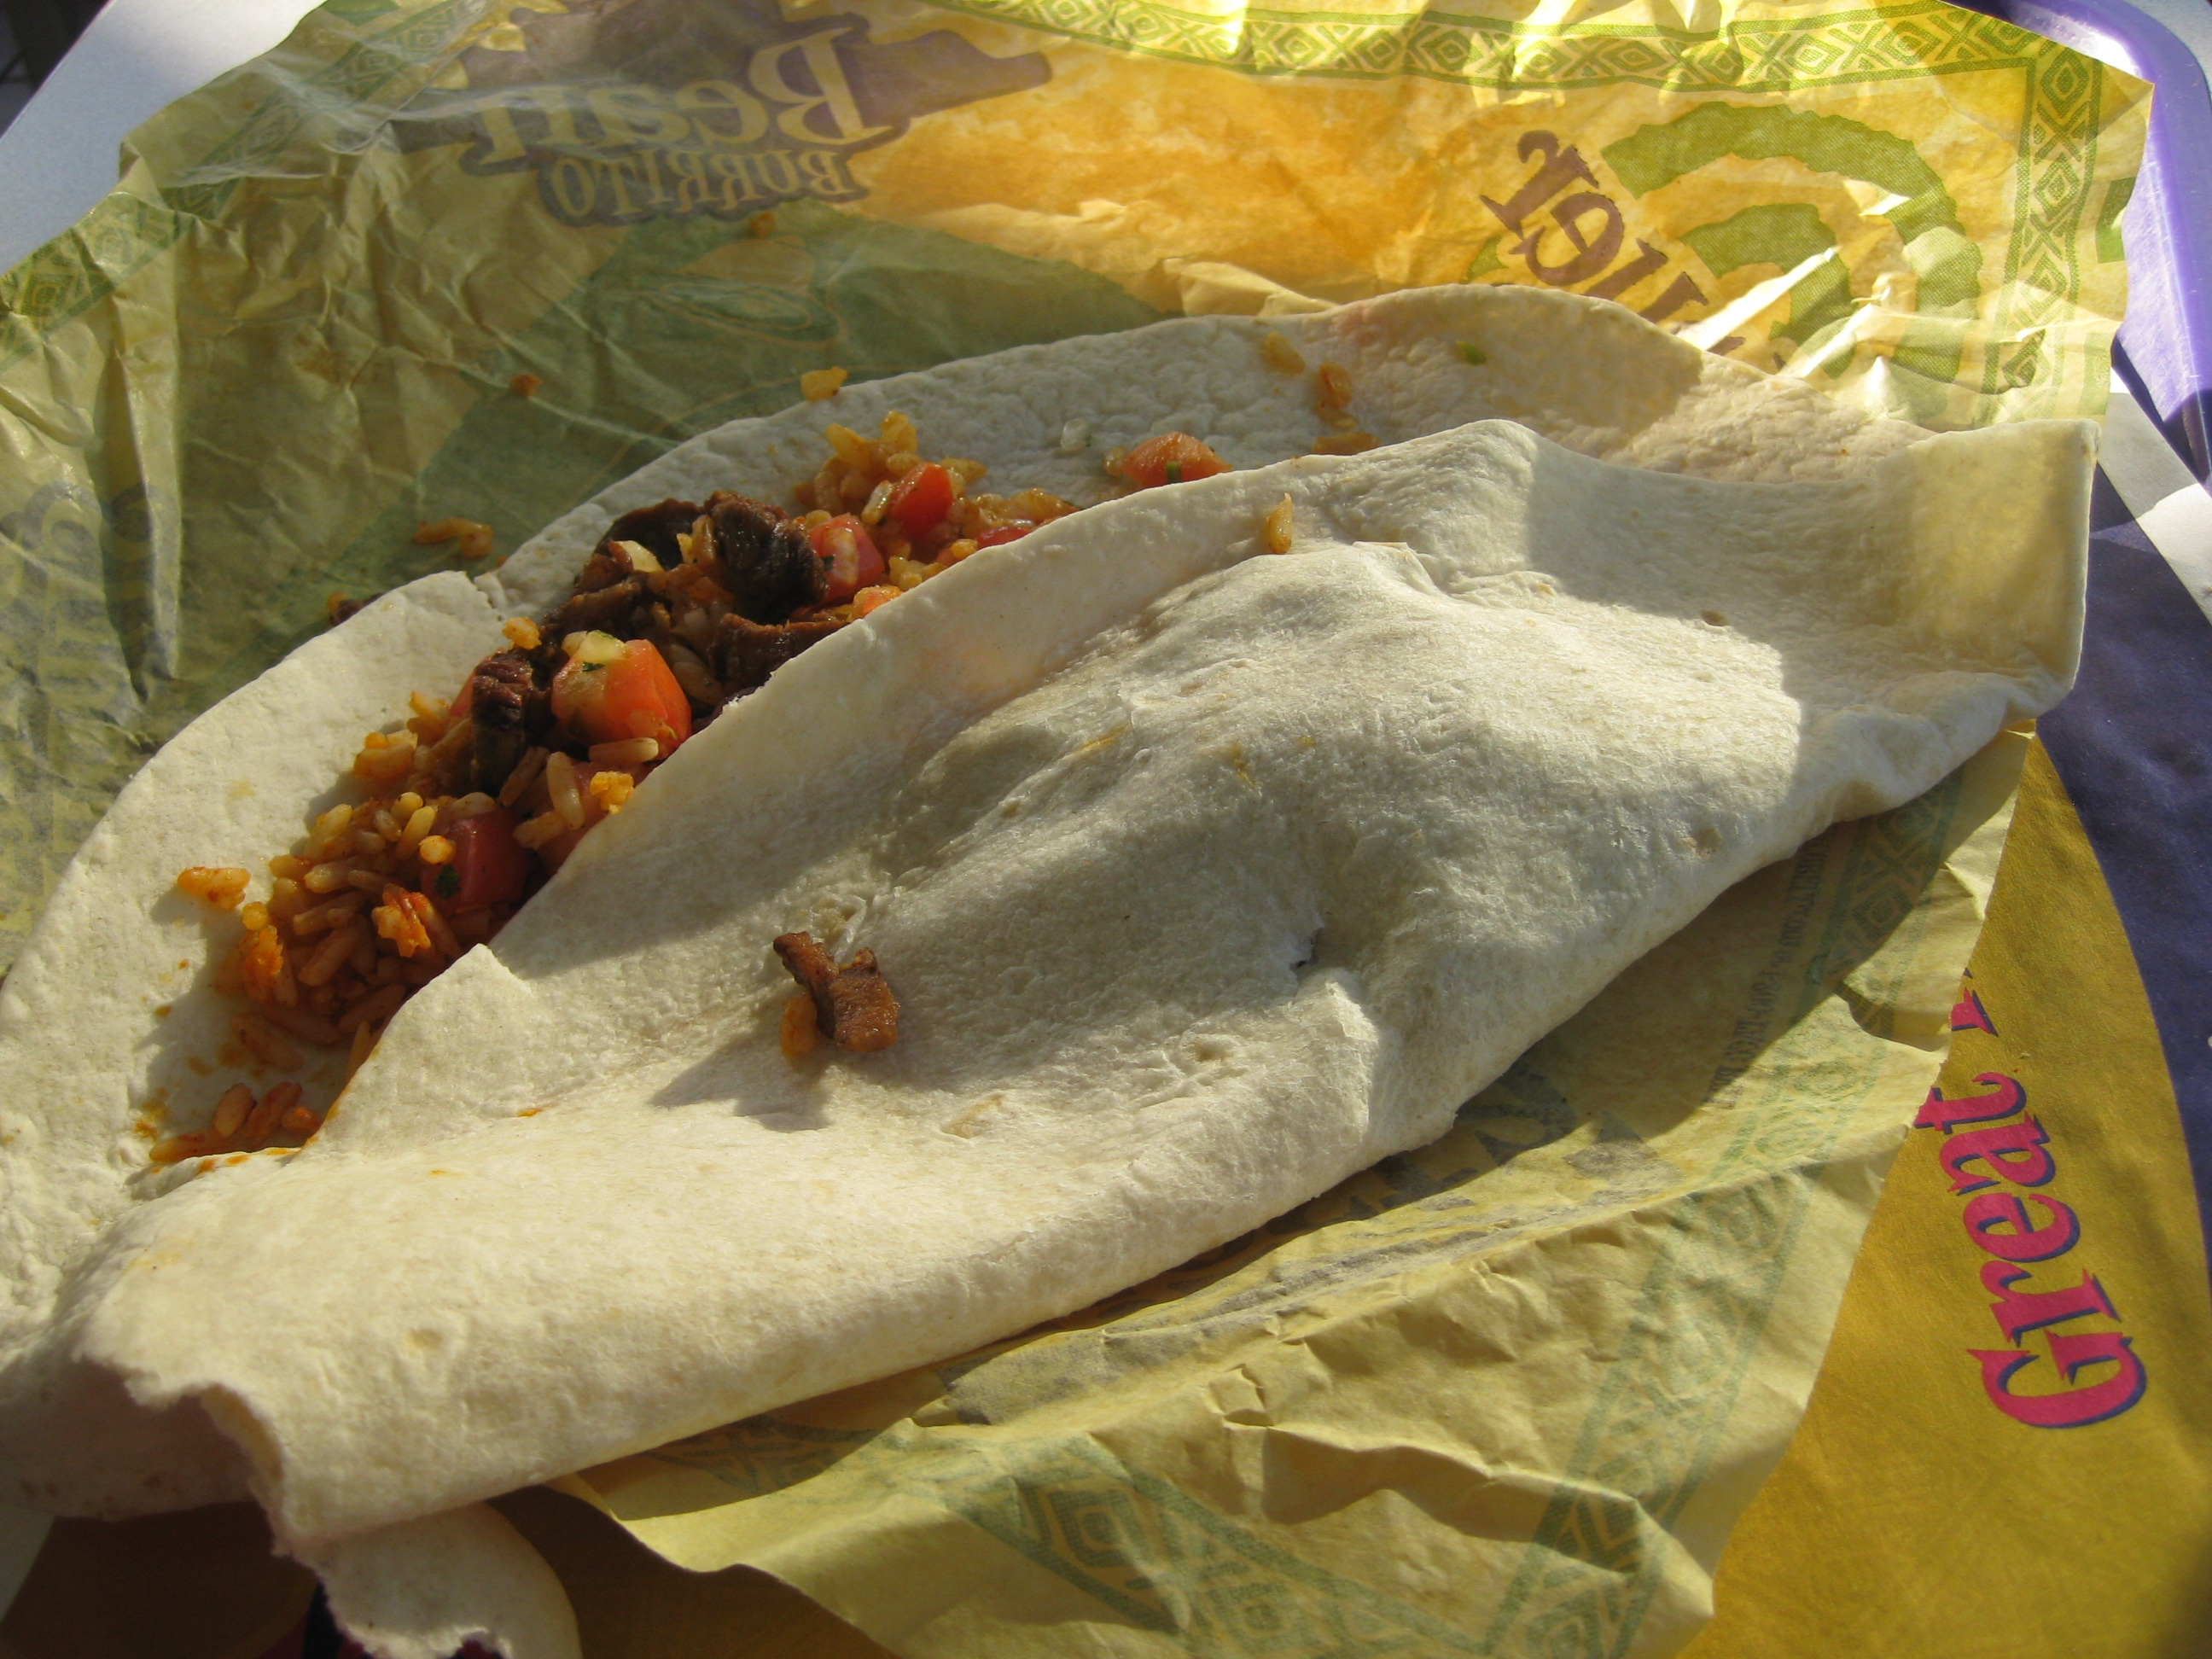taco: (67, 370, 1845, 1446)
